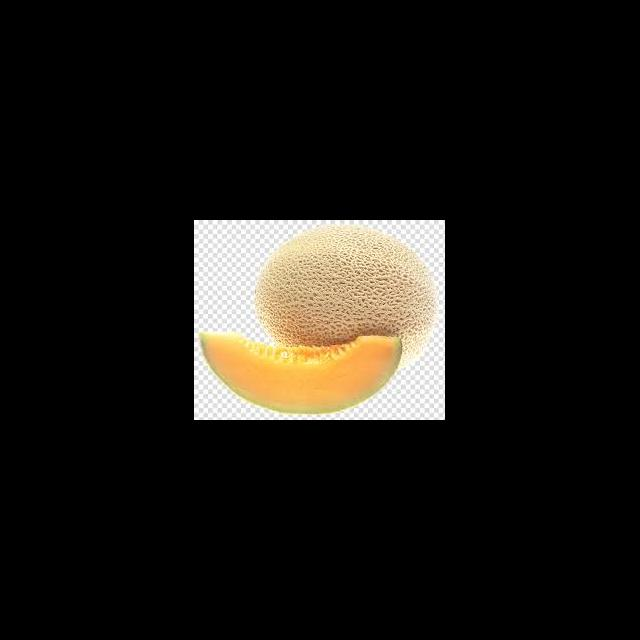Hami Melon: (256, 224, 438, 345), (200, 331, 402, 415)
